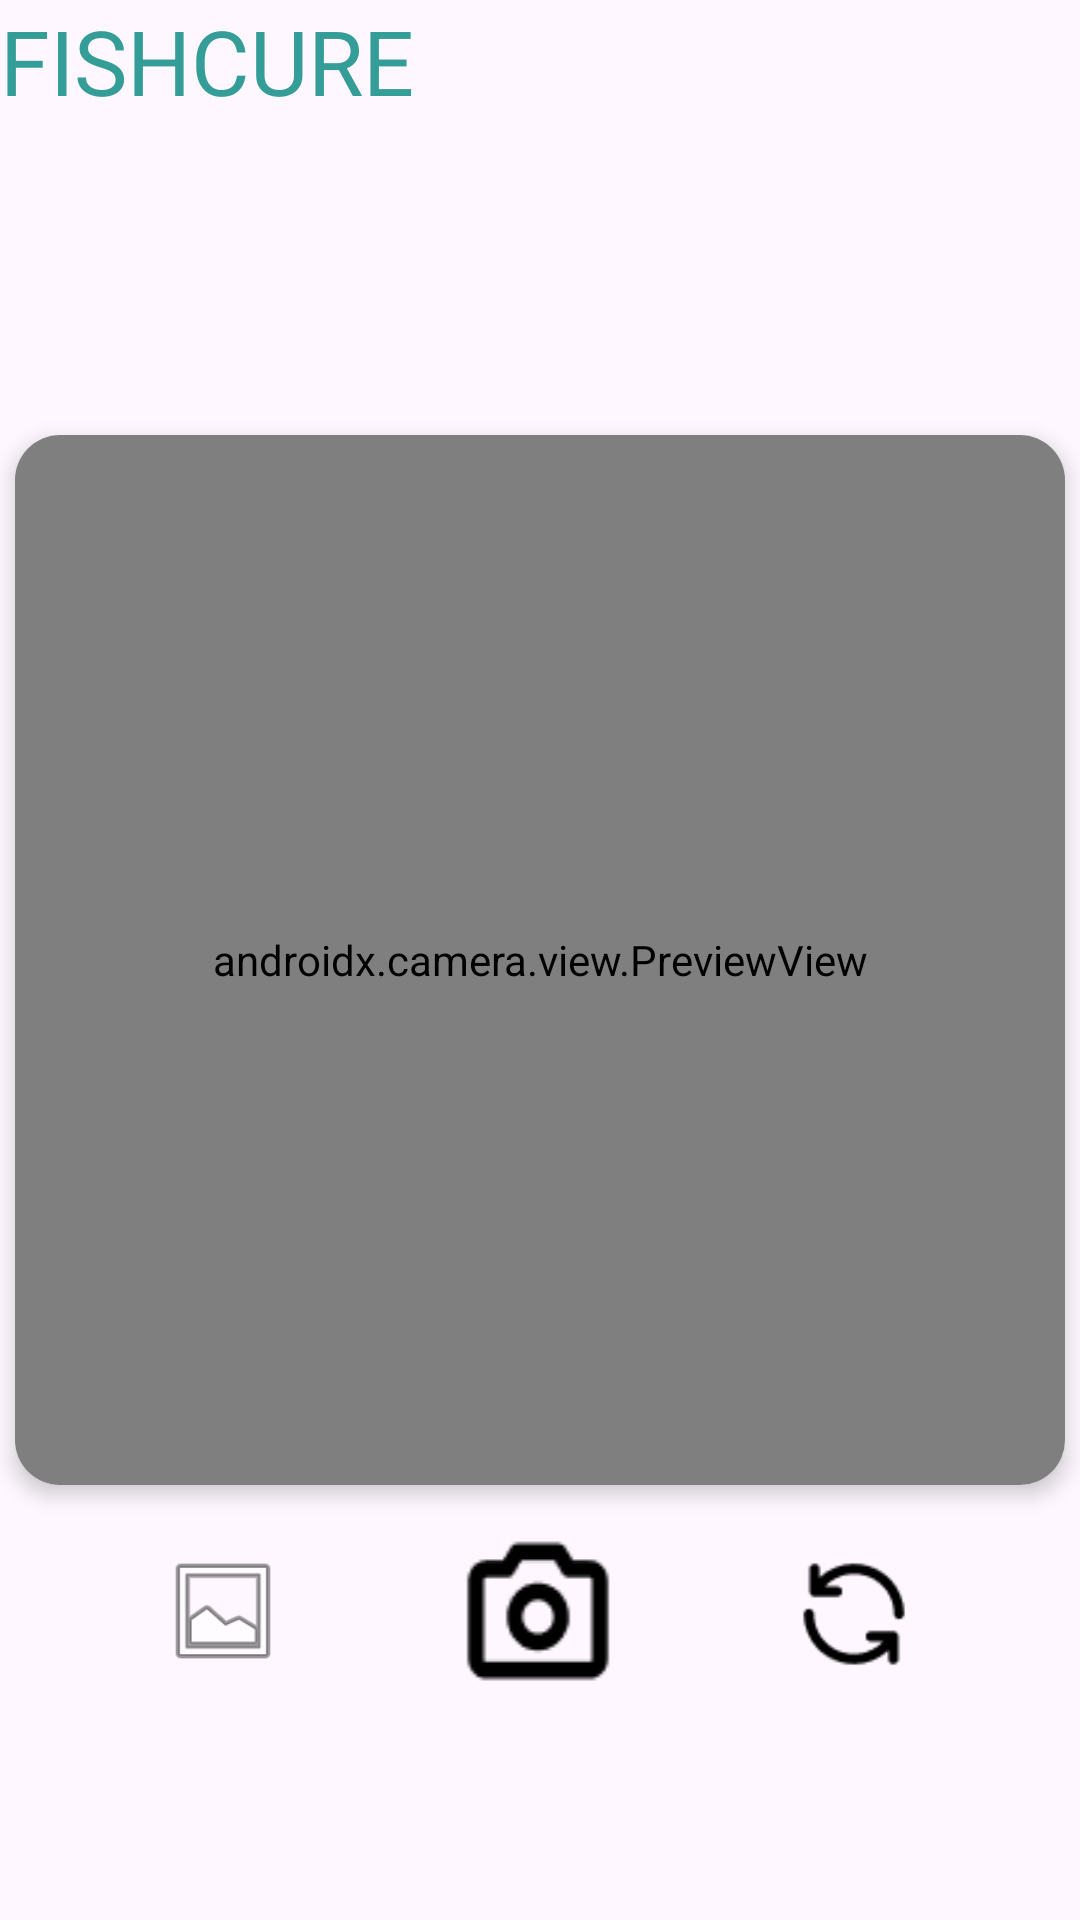

Icon click points for this 1080x1920 phone screenshot, format point (x, y):
gallery: point (223, 1611)
